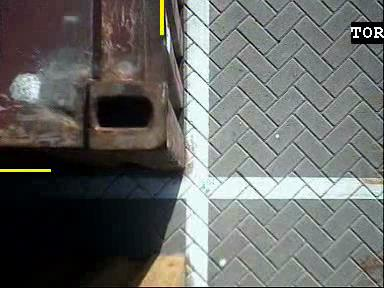groundmarker_2: (204, 108, 247, 161)
